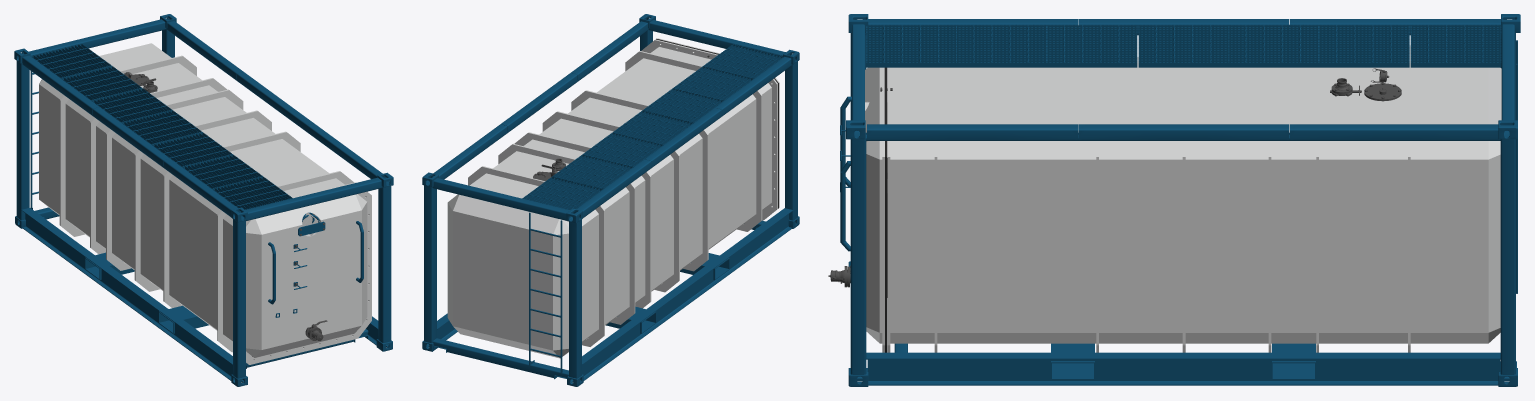
The model's file is Kontejner1.glb.
The picture shows the model from 3 angles, left to right: view 1: azimuth 30°, elevation 25°; view 2: azimuth 150°, elevation 25°; view 3: azimuth 270°, elevation 25°; orthographic projection. The views are drawn at different scales.
Visible parts, largest first — view 1: Object_285, Object_317.011, Object_317.016, Object_317.036, Object_317.061, Object_317.082, Object_317.019, Object_317.020, Object_317.075, Object_317.054, Object_317.067, Object_317.090 (+11 smaller); view 2: Object_285, Object_317.011, Object_317.010, Object_317.016, Object_317.036, Object_317.067, Object_317.090, Object_317.013, Object_317.054, Object_317.075, Object_317.020, Object_317.061 (+10 smaller); view 3: Object_285, Object_317.016, Object_317.018, Object_317.020, Object_317.075, Object_317.067, Object_317.054, Object_317.061, Object_317.082, Object_317.090, Object_317.026, Object_317.027 (+9 smaller).
Part boxes in pixels (bbox=[...]): Object_285: bbox=[39, 43, 371, 364]; Object_317.011: bbox=[16, 61, 245, 380]; Object_317.016: bbox=[162, 29, 391, 345]; Object_317.036: bbox=[25, 213, 232, 375]; Object_317.061: bbox=[91, 88, 172, 124]; Object_317.082: bbox=[181, 154, 262, 190]; Object_317.019: bbox=[245, 177, 382, 220]; Object_317.020: bbox=[30, 43, 111, 78]; Object_317.075: bbox=[151, 132, 232, 166]; Object_317.054: bbox=[60, 65, 141, 100]; Object_317.067: bbox=[121, 109, 201, 144]; Object_317.090: bbox=[212, 176, 292, 209]; Object_285: bbox=[447, 38, 779, 358]; Object_317.011: bbox=[569, 61, 797, 380]; Object_317.010: bbox=[432, 212, 568, 379]; Object_317.016: bbox=[424, 28, 652, 343]; Object_317.036: bbox=[582, 214, 788, 375]; Object_317.067: bbox=[612, 110, 693, 146]; Object_317.090: bbox=[702, 44, 782, 80]; Object_317.013: bbox=[432, 178, 569, 220]; Object_317.054: bbox=[552, 154, 633, 189]; Object_317.075: bbox=[643, 88, 724, 122]; Object_317.020: bbox=[522, 176, 602, 210]; Object_317.061: bbox=[583, 132, 662, 167]; Object_285: bbox=[865, 45, 1501, 352]; Object_317.016: bbox=[850, 133, 1515, 385]; Object_317.018: bbox=[867, 359, 1500, 380]; Object_317.020: bbox=[1410, 24, 1501, 67]; Object_317.075: bbox=[1046, 24, 1137, 67]; Object_317.067: bbox=[1138, 24, 1229, 67]; Object_317.054: bbox=[1319, 24, 1409, 67]; Object_317.061: bbox=[1228, 24, 1318, 67]; Object_317.082: bbox=[956, 24, 1046, 67]; Object_317.090: bbox=[866, 24, 956, 67]; Object_317.026: bbox=[1077, 124, 1290, 140]; Object_317.027: bbox=[866, 124, 1078, 140].
Size of the model in its own units: 2.44 by 2.59 by 6.27.
